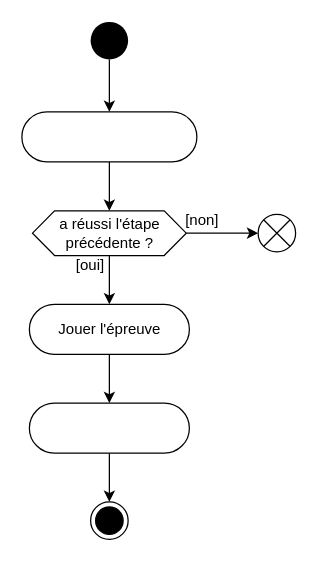
The diagram is 318 pixels wide and 561 high, and some of its shapes have lost their labels. The shapes that lost their labels are listed below. From the top down, each one's box as (x1, y1, x2, y2) in pixels, then its label:
(21, 111, 197, 162): Scanner le QR code d'une étape du jeu
(28, 402, 189, 453): Jouer les épreuves suivantes
